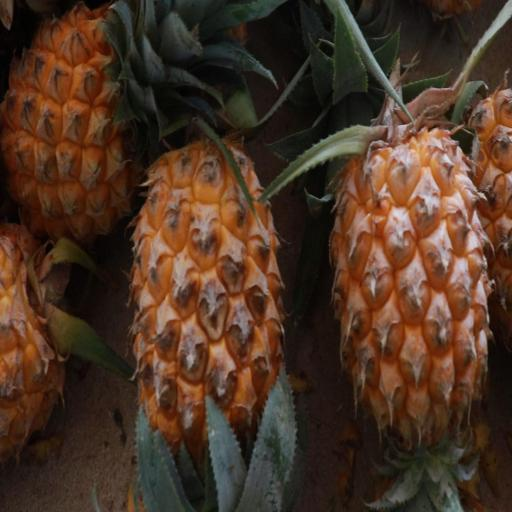Pineapple - v8 v1: (122, 118, 291, 508), (325, 104, 493, 474), (0, 2, 171, 250), (0, 193, 76, 471)
